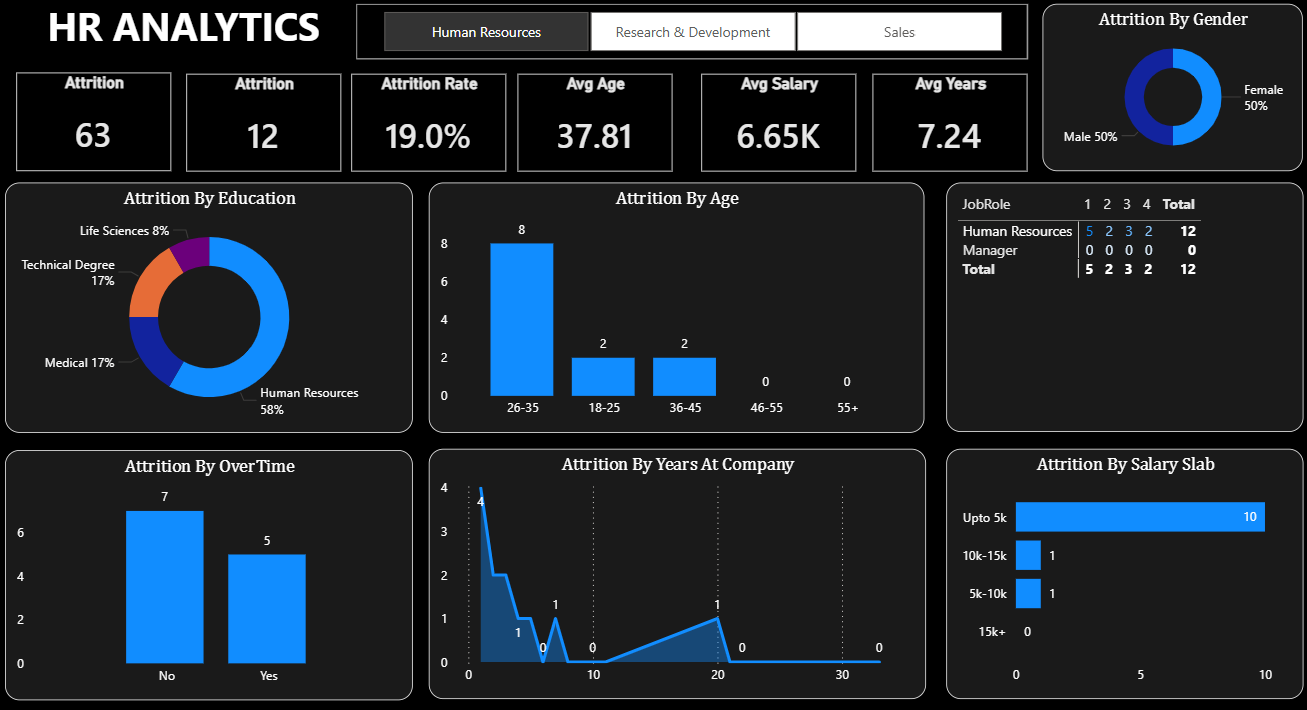

The dashboard page shown, as its layout file describes it:
{"tool":"powerbi","page":{"name":"HR Analytics Clean","canvas":[1280,720],"ordinal":0},"visuals":[{"type":"donutChart","title":"Attrition By Education","fields":{"Category":["HR Analytics Clean.EducationField"],"Y":["Sum(HR Analytics Clean.AttritionCountclean)"]},"box":[14.7,180.4,393.9,241.7],"z":0},{"type":"columnChart","title":"Attrition By Age","fields":{"Category":["HR Analytics Clean.AgeGroup"],"Y":["Sum(HR Analytics Clean.AttritionCountclean)"]},"box":[423.3,180.4,478.5,241.7],"z":1000},{"type":"pivotTable","fields":{"Rows":["HR Analytics Clean.JobRole"],"Columns":["HR Analytics Clean.JobSatisfaction"],"Values":["Sum(HR Analytics Clean.AttritionCountclean)"]},"box":[923.2,181,344.8,240.9],"z":2000},{"type":"barChart","title":"Attrition By Salary Slab","fields":{"Category":["HR Analytics Clean.SalarySlab"],"Y":["Sum(HR Analytics Clean.AttritionCountclean)"]},"box":[922.7,438,344.8,241.7],"z":3000},{"type":"areaChart","title":"Attrition By Years At Company","fields":{"Y":["Sum(HR Analytics Clean.AttritionCountclean)"],"Category":["HR Analytics Clean.YearsAtCompany"]},"box":[423.3,438,479.8,241.7],"z":4000},{"type":"textbox","box":[25.8,0,322.7,60.1],"z":5000},{"type":"cardVisual","title":"Avg Age","fields":{"Data":["Avg(HR Analytics Clean.Age)"]},"box":[509.2,76.1,149.7,94.5],"z":6000},{"type":"cardVisual","title":"Attrition Rate","fields":{"Data":["HR Analytics Clean.AttritionRate"]},"box":[348.5,76.1,149.7,94.5],"z":7000},{"type":"cardVisual","title":"Attrition","fields":{"Data":["Sum(HR Analytics Clean.AttritionCountclean)"]},"box":[189,76.1,149.7,94.5],"z":8000},{"type":"cardVisual","title":"Avg Years","fields":{"Data":["Avg(HR Analytics Clean.YearsAtCompany)"]},"box":[851.5,76.1,149.7,94.5],"z":9000},{"type":"cardVisual","title":"Avg Salary","fields":{"Data":["Avg(HR Analytics Clean.MonthlyIncome)"]},"box":[685.9,76.1,149.7,94.5],"z":10000},{"type":"donutChart","title":"Attrition By Gender","fields":{"Category":["HR Analytics Clean.Gender"],"Y":["Sum(HR Analytics Clean.AttritionCountclean)"]},"box":[1016,8.6,251.5,162],"z":11000},{"type":"slicer","fields":{"Values":["HR Analytics Clean.Department"]},"box":[353.4,8.6,647.9,54],"z":12000},{"type":"columnChart","title":"Attrition By OverTime","fields":{"Category":["HR Analytics Clean.OverTime"],"Y":["Sum(HR Analytics Clean.AttritionCountclean)"]},"box":[14.7,439.3,393.9,241.7],"z":13000},{"type":"cardVisual","title":"Attrition","fields":{"Data":["CountNonNull(HR Analytics Clean.EmpID)"]},"box":[25.3,74.8,149.6,95.3],"z":14000}]}

Visuals, with their boxes in screenshot pixels (x1, y1, x2, y2):
"Attrition By Education" donutChart: crop(28, 182, 426, 426)
"Attrition By Age" columnChart: crop(441, 182, 925, 426)
pivotTable - HR Analytics Clean.JobRole x HR Analytics Clean.JobSatisfaction: crop(946, 183, 1294, 426)
"Attrition By Salary Slab" barChart: crop(946, 442, 1294, 687)
"Attrition By Years At Company" areaChart: crop(441, 442, 926, 687)
textbox: crop(40, 0, 366, 61)
"Avg Age" cardVisual: crop(528, 77, 679, 172)
"Attrition Rate" cardVisual: crop(366, 77, 517, 172)
"Attrition" cardVisual: crop(205, 77, 356, 172)
"Avg Years" cardVisual: crop(874, 77, 1025, 172)
"Avg Salary" cardVisual: crop(706, 77, 858, 172)
"Attrition By Gender" donutChart: crop(1040, 9, 1294, 172)
slicer - HR Analytics Clean.Department: crop(371, 9, 1025, 63)
"Attrition By OverTime" columnChart: crop(28, 444, 426, 688)
"Attrition" cardVisual: crop(39, 76, 190, 172)
